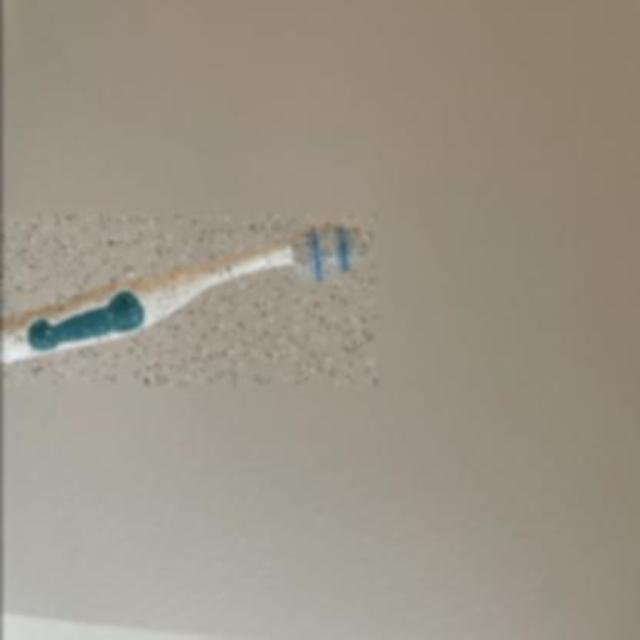toothbrush: (1, 216, 376, 384)
